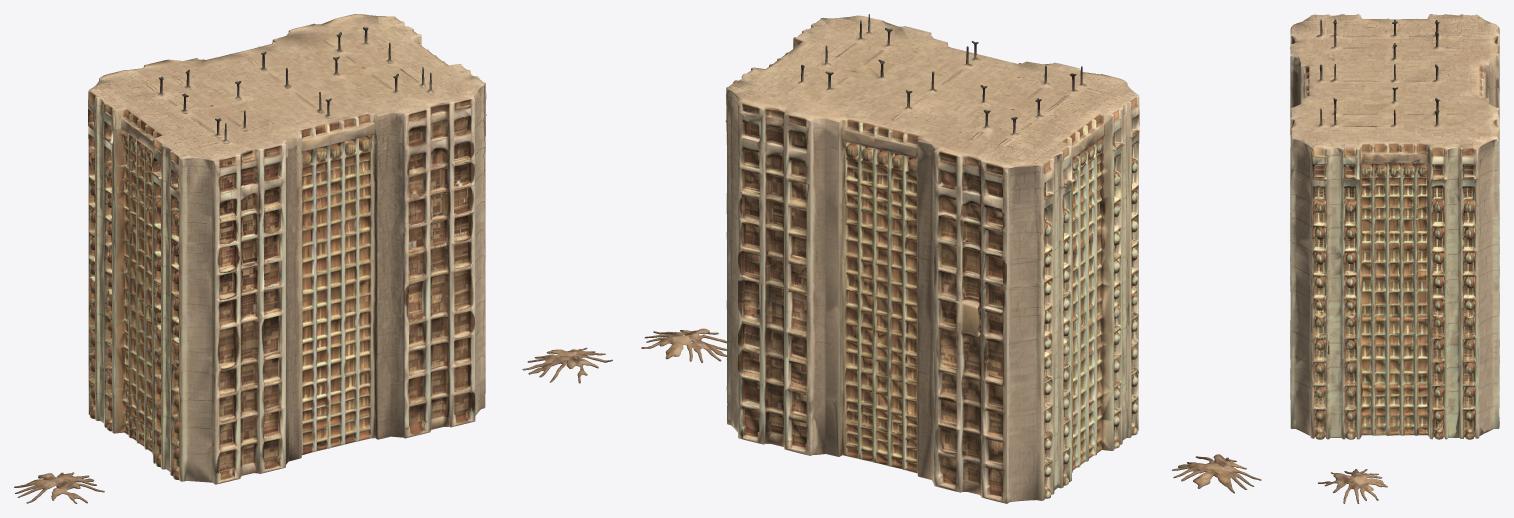
File: bceao.glb
3 renders of one model, left to right at view 1: azimuth 30°, elevation 25°; view 2: azimuth 150°, elevation 25°; view 3: azimuth 270°, elevation 25°, orthographic. The views are drawn at different scales.
Parts seen in each view (by area): view 1: tripo_node_1f12f64e-0354-4c01-a26d-bd178198b87c; view 2: tripo_node_1f12f64e-0354-4c01-a26d-bd178198b87c; view 3: tripo_node_1f12f64e-0354-4c01-a26d-bd178198b87c.
Boxes of the visible parts, left/top/right/bottom form: tripo_node_1f12f64e-0354-4c01-a26d-bd178198b87c: left=14, top=14, right=612, bottom=503; tripo_node_1f12f64e-0354-4c01-a26d-bd178198b87c: left=641, top=14, right=1261, bottom=503; tripo_node_1f12f64e-0354-4c01-a26d-bd178198b87c: left=1290, top=14, right=1499, bottom=503.
Size of the model in its own units: 1 by 0.5618 by 0.3439.
1 material, 1 textured.
